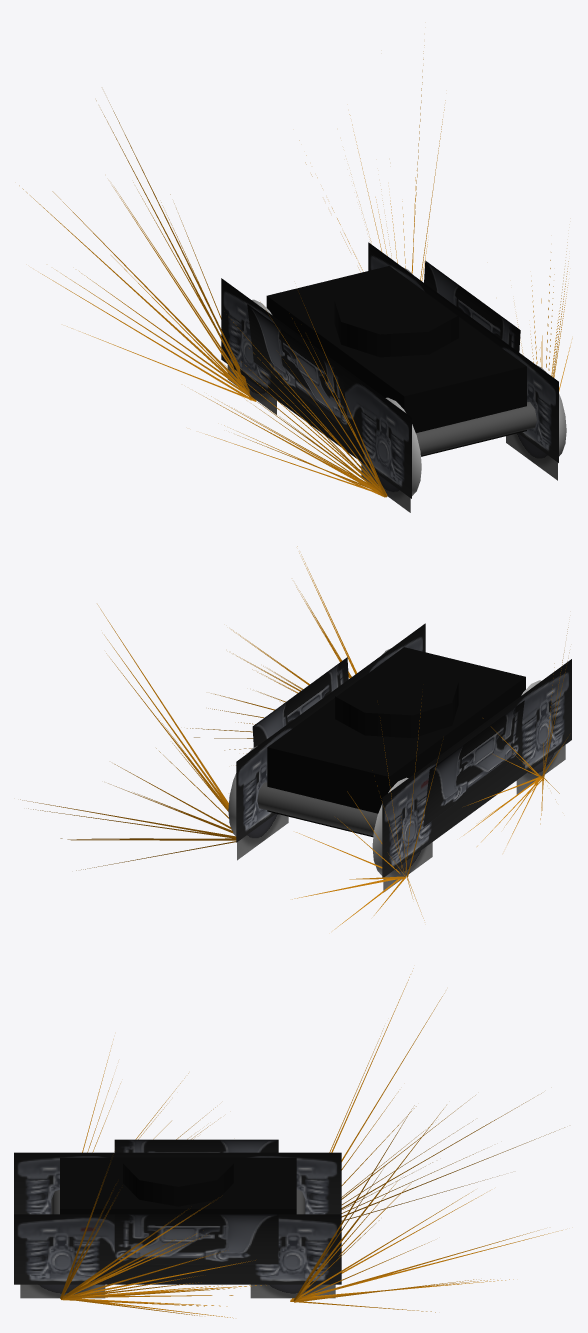
File: K2100_TRACK_N.glb
3 views of the same model, one above another, from view 1: azimuth 30°, elevation 25°; view 2: azimuth 150°, elevation 25°; view 3: azimuth 270°, elevation 25° (orthographic). The views are drawn at different scales.
Visible parts, largest first — view 1: trackbase, Fire1_R_1, Fire0_R_0; view 2: trackbase, Fire1_L_0, Fire1_R_1, Fire0_R_0, Fire0_L_1, Fire0_L_0; view 3: trackbase, Fire1_L_1, Fire0_L_0, Fire0_L_1, Fire1_R_0.
Part boxes in pixels (x1=…): trackbase: x1=221, y1=242, x2=566, y2=512; Fire1_R_1: x1=19, y1=104, x2=256, y2=401; Fire0_R_0: x1=195, y1=293, x2=387, y2=497; trackbase: x1=228, y1=623, x2=571, y2=892; Fire1_L_0: x1=27, y1=609, x2=236, y2=869; Fire1_R_1: x1=295, y1=696, x2=422, y2=929; Fire0_R_0: x1=463, y1=718, x2=559, y2=846; Fire0_L_1: x1=190, y1=546, x2=356, y2=753; Fire0_L_0: x1=187, y1=553, x2=355, y2=749; trackbase: x1=14, y1=1139, x2=341, y2=1298; Fire1_L_1: x1=290, y1=1109, x2=558, y2=1312; Fire0_L_0: x1=61, y1=1163, x2=266, y2=1318; Fire0_L_1: x1=60, y1=1160, x2=260, y2=1317; Fire1_R_0: x1=329, y1=977, x2=555, y2=1221.
Size of the model in its own units: 9.19 by 6.14 by 13.16.
Materials: 14 (5 with a texture image).
